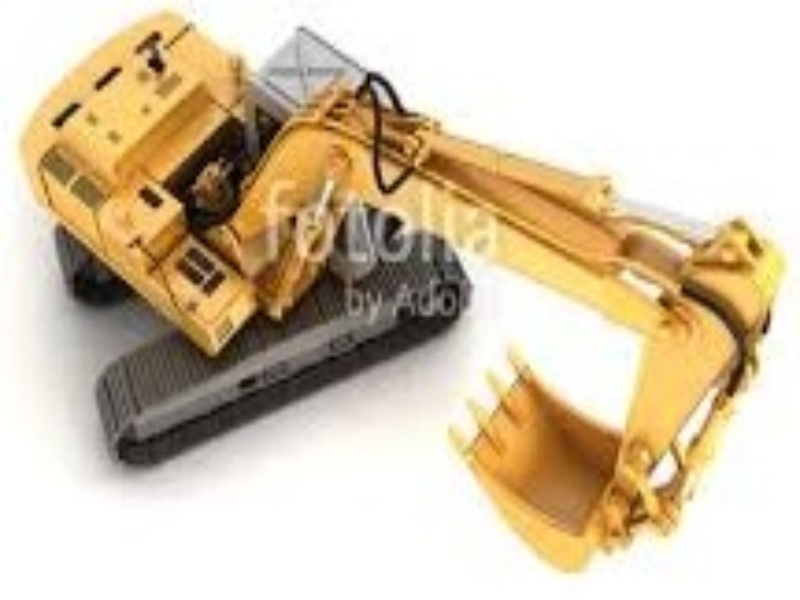wajueji: (14, 11, 516, 457)
